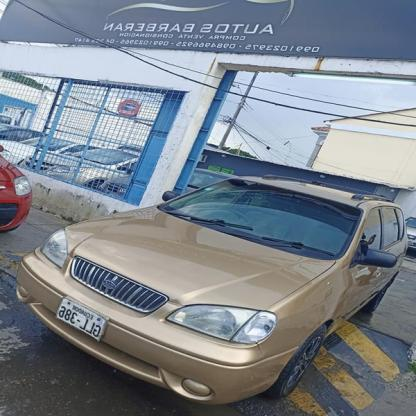Placa: (50, 293, 114, 340)
